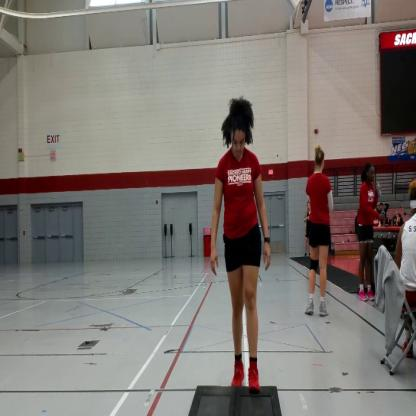lateral_flexion_right: (209, 94, 270, 398)
stance_width_narrow: (208, 144, 272, 398)
